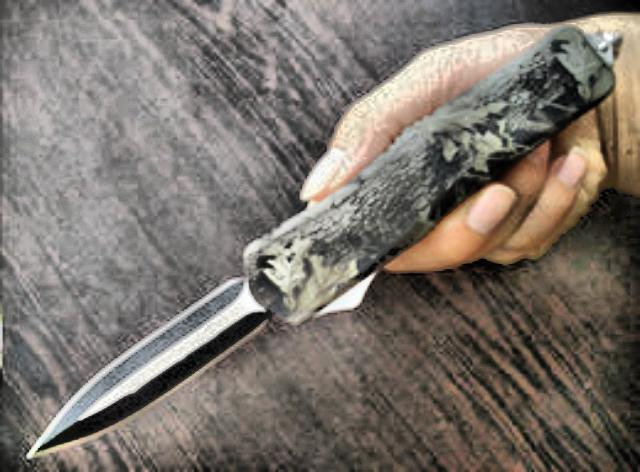knife: (14, 84, 522, 460)
